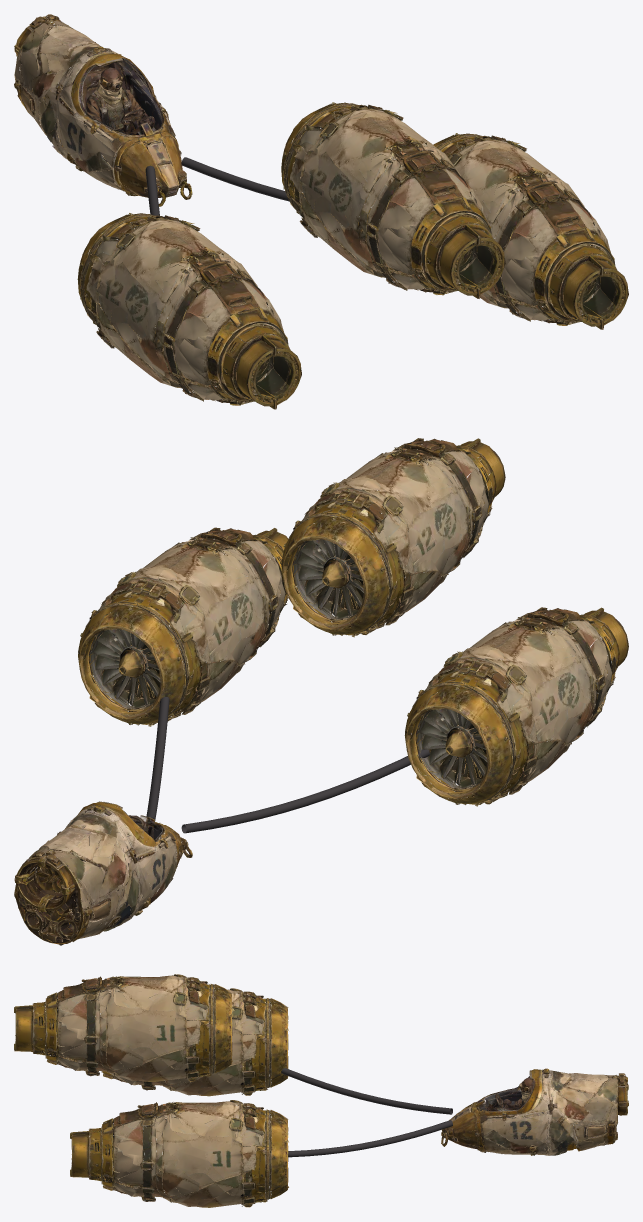
File: sirocco-hero.glb
3 renders of one model, top to bottom at view 1: azimuth 30°, elevation 25°; view 2: azimuth 150°, elevation 25°; view 3: azimuth 270°, elevation 25°, orthographic. The views are drawn at different scales.
Visible parts, largest first — view 1: sirocco-engine-top-body, sirocco-engine-left-body, sirocco-engine-right-body, sirocco-cockpit-body, sirocco-tow-cables; view 2: sirocco-engine-top-body, sirocco-engine-left-body, sirocco-engine-right-body, sirocco-cockpit-body, sirocco-tow-cables; view 3: sirocco-engine-right-body, sirocco-engine-top-body, sirocco-cockpit-body, sirocco-engine-left-body, sirocco-tow-cables.
Part boxes in pixels (bbox=[...]): sirocco-engine-top-body: bbox=[281, 102, 505, 298]; sirocco-engine-left-body: bbox=[77, 213, 301, 409]; sirocco-engine-right-body: bbox=[433, 133, 628, 329]; sirocco-cockpit-body: bbox=[14, 14, 192, 206]; sirocco-tow-cables: bbox=[145, 157, 370, 215]; sirocco-engine-top-body: bbox=[281, 438, 505, 637]; sirocco-engine-left-body: bbox=[404, 607, 628, 806]; sirocco-engine-right-body: bbox=[78, 527, 288, 726]; sirocco-cockpit-body: bbox=[14, 801, 192, 945]; sirocco-tow-cables: bbox=[146, 697, 429, 833]; sirocco-engine-right-body: bbox=[70, 1100, 288, 1207]; sirocco-engine-top-body: bbox=[14, 974, 232, 1081]; sirocco-cockpit-body: bbox=[441, 1068, 628, 1155]; sirocco-engine-left-body: bbox=[87, 988, 288, 1096]; sirocco-tow-cables: bbox=[270, 1064, 452, 1157].
Bounding box in the file's own units: 11.86 × 6.34 × 20.3.
Materials: 3 (2 with a texture image).
